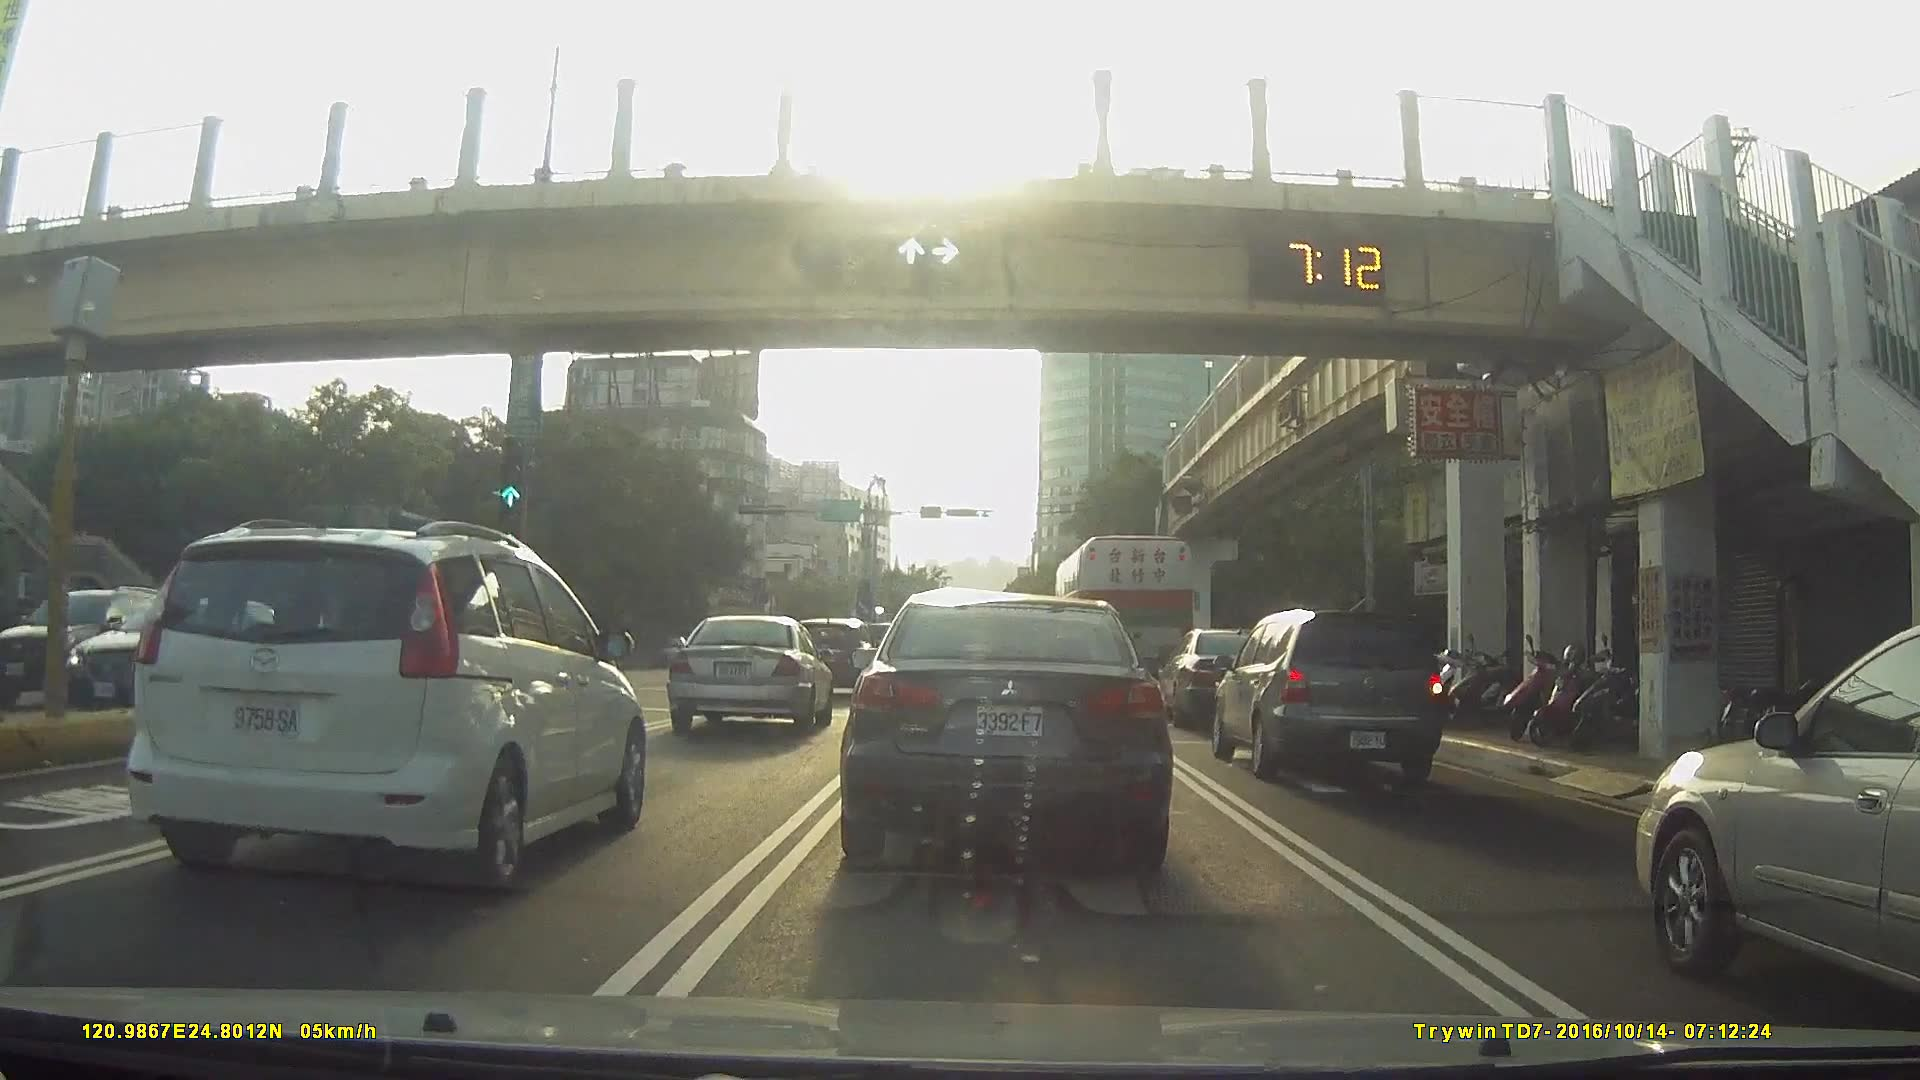vehicle: (116, 516, 650, 893), (1634, 624, 1920, 1004), (843, 585, 1170, 882), (1207, 605, 1443, 790), (1055, 535, 1208, 695), (667, 613, 832, 735), (1156, 626, 1282, 729), (793, 615, 877, 692), (641, 632, 694, 670)
